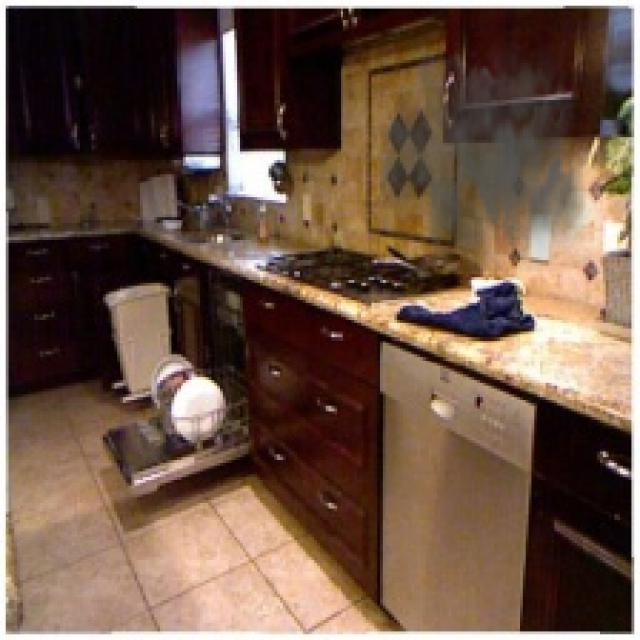smoke: (380, 20, 597, 271)
